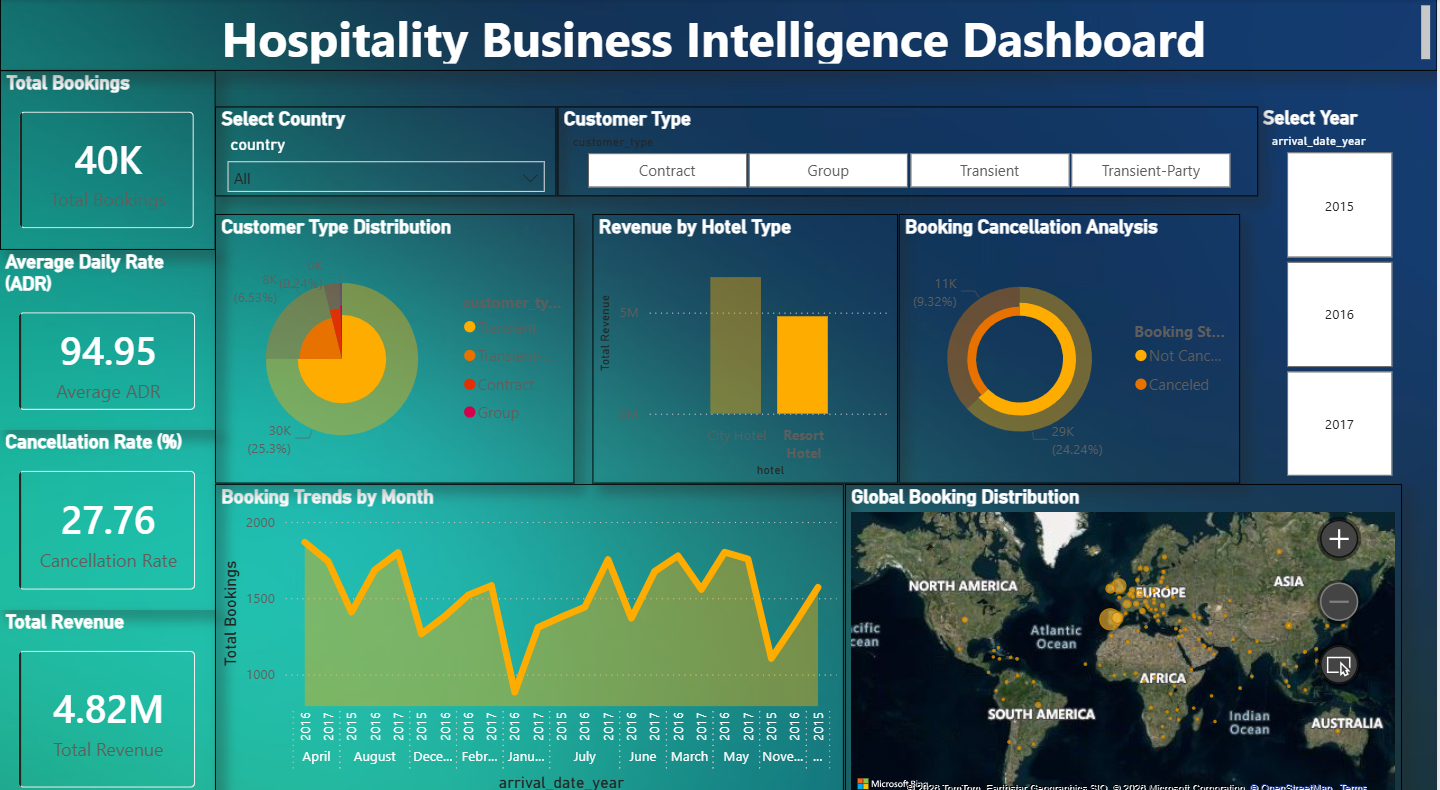

Layout of this report page (visuals, bound fields, positions):
{"tool":"powerbi","page":{"name":"Page 1","canvas":[1280,720],"ordinal":0},"visuals":[{"type":"cardVisual","title":"Total Bookings","fields":{"Data":["hotel_bookings.Total Bookings"]},"box":[0,64,192,160],"z":0},{"type":"cardVisual","title":"Average Daily Rate (ADR)","fields":{"Data":["hotel_bookings.Average ADR"]},"box":[0,224,192,160],"z":1000},{"type":"cardVisual","title":"Cancellation Rate (%)","fields":{"Data":["hotel_bookings.Cancellation Rate"]},"box":[0,384,192,160],"z":2000},{"type":"cardVisual","title":"Total Revenue","fields":{"Data":["hotel_bookings.Total Revenue"]},"box":[0,544,192,176],"z":3000},{"type":"lineChart","title":"Booking Trends by Month","fields":{"Y":["hotel_bookings.Total Bookings"],"Category":["hotel_bookings.arrival_date_month","hotel_bookings.arrival_date_year"]},"box":[192,432,560,288],"z":4000},{"type":"clusteredColumnChart","title":"Revenue by Hotel Type","fields":{"Category":["hotel_bookings.hotel"],"Y":["hotel_bookings.Total Revenue"]},"box":[528,192,272,240],"z":5000},{"type":"donutChart","title":"Booking Cancellation Analysis","fields":{"Category":["hotel_bookings.Booking Status"],"Y":["hotel_bookings.Total Bookings"]},"box":[800,192,304,240],"z":6000},{"type":"map","title":"Global Booking Distribution","fields":{"Category":["hotel_bookings.country"],"Size":["hotel_bookings.Total Bookings"]},"box":[752,432,496,288],"z":7000},{"type":"pieChart","title":"Customer Type Distribution","fields":{"Category":["hotel_bookings.customer_type"],"Y":["hotel_bookings.Total Bookings"]},"box":[192,192,320,240],"z":8000},{"type":"textbox","box":[0,0,1280,64],"z":9000},{"type":"slicer","title":"Select Year","fields":{"Values":["hotel_bookings.arrival_date_year"]},"box":[1120,96,144,336],"z":10000},{"type":"slicer","title":"Select Country","fields":{"Values":["hotel_bookings.country"]},"box":[192,96,304,80],"z":11000},{"type":"slicer","title":"Customer Type","fields":{"Values":["hotel_bookings.customer_type"]},"box":[496,96,624,80],"z":12000}]}

Visuals, with their boxes in screenshot pixels (x1, y1, x2, y2), scaled from the page's 1280x720 canvas onto the 1440x790 screenshot:
"Total Bookings" cardVisual: pyautogui.locateOnScreen(0, 70, 216, 246)
"Average Daily Rate (ADR)" cardVisual: pyautogui.locateOnScreen(0, 246, 216, 421)
"Cancellation Rate (%)" cardVisual: pyautogui.locateOnScreen(0, 421, 216, 597)
"Total Revenue" cardVisual: pyautogui.locateOnScreen(0, 597, 216, 789)
"Booking Trends by Month" lineChart: pyautogui.locateOnScreen(216, 474, 846, 789)
"Revenue by Hotel Type" clusteredColumnChart: pyautogui.locateOnScreen(594, 211, 900, 474)
"Booking Cancellation Analysis" donutChart: pyautogui.locateOnScreen(900, 211, 1242, 474)
"Global Booking Distribution" map: pyautogui.locateOnScreen(846, 474, 1404, 789)
"Customer Type Distribution" pieChart: pyautogui.locateOnScreen(216, 211, 576, 474)
textbox: pyautogui.locateOnScreen(0, 0, 1439, 70)
"Select Year" slicer: pyautogui.locateOnScreen(1260, 105, 1422, 474)
"Select Country" slicer: pyautogui.locateOnScreen(216, 105, 558, 193)
"Customer Type" slicer: pyautogui.locateOnScreen(558, 105, 1260, 193)
